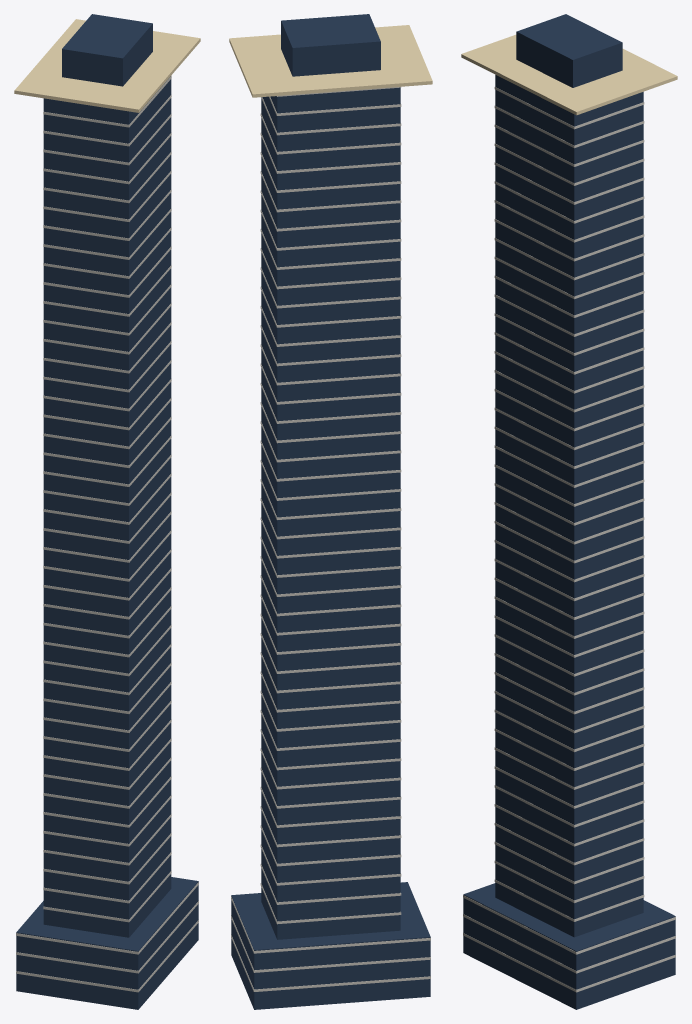
File: bay-gate-tower.glb
3 renders of one model, left to right at view 1: azimuth 30°, elevation 25°; view 2: azimuth 150°, elevation 25°; view 3: azimuth 270°, elevation 25°, orthographic.
Parts seen in each view (by area): view 1: M_bay-gate-tower, bay-gate-tower_gold, band.1004, band.1003, band.1002, band.1025, band.1027, band.1029, band.1032, band.1034, band.1038, band.1040 (+26 smaller); view 2: M_bay-gate-tower, bay-gate-tower_gold, band.1002, band.1003, band.1004, band.1029, band.1008, band.1009, band.1033, band.1034, band.1012, band.1013 (+35 smaller); view 3: M_bay-gate-tower, bay-gate-tower_gold, band.1002, band.1003, band.1004, band.1035, band.1043, band.1011, band.1019, band.1027, band.1039, band.1007 (+28 smaller).
Part boxes in pixels (left/top/right/bottom): M_bay-gate-tower: left=16, top=14, right=198, bottom=1009; bay-gate-tower_gold: left=14, top=19, right=200, bottom=112; band.1004: left=16, top=882, right=198, bottom=954; band.1003: left=16, top=901, right=198, bottom=973; band.1002: left=16, top=920, right=198, bottom=992; band.1025: left=43, top=492, right=171, bottom=543; band.1027: left=43, top=454, right=171, bottom=505; band.1029: left=43, top=416, right=171, bottom=467; band.1032: left=43, top=360, right=171, bottom=411; band.1034: left=43, top=322, right=171, bottom=373; band.1038: left=43, top=246, right=171, bottom=297; band.1040: left=43, top=208, right=171, bottom=259; M_bay-gate-tower: left=231, top=14, right=430, bottom=1009; bay-gate-tower_gold: left=229, top=25, right=432, bottom=97; band.1002: left=231, top=934, right=430, bottom=991; band.1003: left=231, top=915, right=430, bottom=972; band.1004: left=231, top=896, right=430, bottom=953; band.1029: left=260, top=421, right=401, bottom=462; band.1008: left=260, top=825, right=401, bottom=866; band.1009: left=260, top=806, right=401, bottom=847; band.1033: left=260, top=344, right=401, bottom=385; band.1034: left=260, top=325, right=401, bottom=366; band.1012: left=260, top=748, right=401, bottom=789; band.1013: left=260, top=729, right=401, bottom=770; M_bay-gate-tower: left=463, top=14, right=675, bottom=1009; bay-gate-tower_gold: left=461, top=34, right=677, bottom=115; band.1002: left=463, top=933, right=675, bottom=992; band.1003: left=463, top=914, right=675, bottom=973; band.1004: left=463, top=895, right=675, bottom=954; band.1035: left=494, top=313, right=644, bottom=355; band.1043: left=494, top=162, right=644, bottom=204; band.1011: left=494, top=766, right=644, bottom=808; band.1019: left=494, top=615, right=644, bottom=657; band.1027: left=494, top=464, right=644, bottom=506; band.1039: left=494, top=238, right=644, bottom=280; band.1007: left=494, top=842, right=644, bottom=884.
Bounding box in the file's own units: 48.05 × 221 × 46.79.
